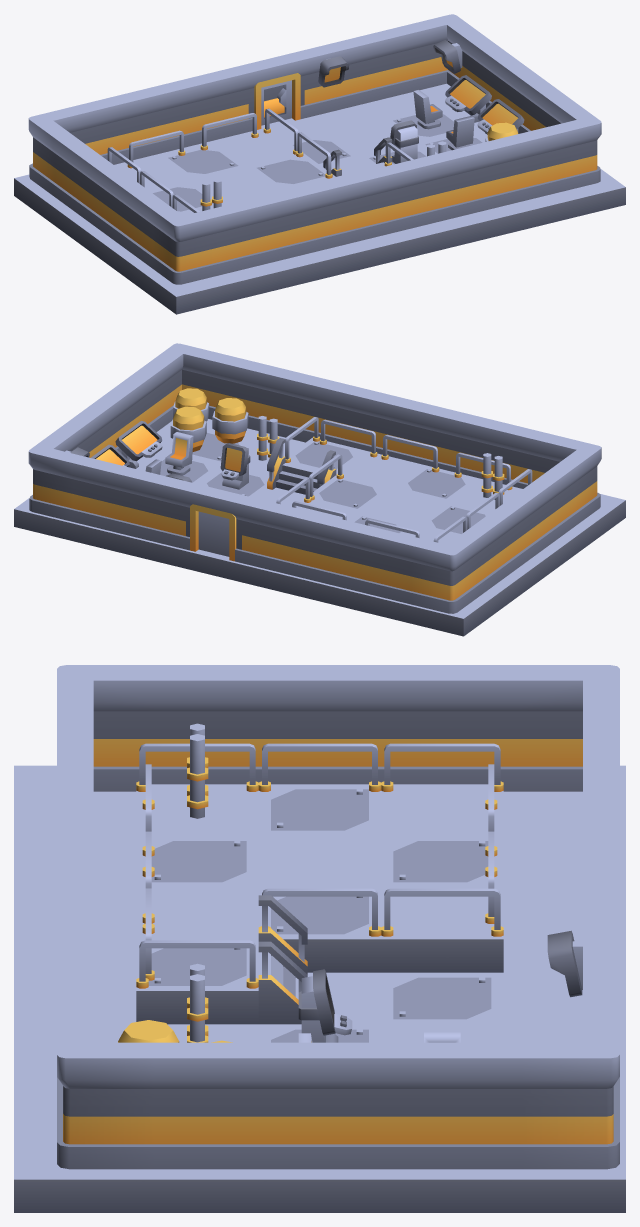
File: launchModelScene.glb
3 renders of one model, top to bottom at view 1: azimuth 30°, elevation 25°; view 2: azimuth 150°, elevation 25°; view 3: azimuth 270°, elevation 25°, orthographic. The views are drawn at different scales.
Parts seen in each view (by area): view 1: wall-banner (×17), floor (×19), wall-corner-banner (×4), floor-detail (×5), wall-door-wide, computer-wide (×2), chair-cushion (×2), rail (×3), display-wall (×2), door-double-closed, computer, stairs-small-edges-handrail (+2 smaller); view 2: wall-banner (×17), floor (×18), wall-corner-banner (×4), floor-detail (×8), container (×3), wall-door-wide, computer-wide (×2), stairs-small-edges-handrail, wall-detail (×2), rail (×3), door-double-closed, computer (+1 smaller); view 3: floor (×26), wall-banner (×17), wall-corner-banner (×4), floor-detail (×7), rail (×6), stairs-small-edges-handrail, wall-detail (×2), computer, wall-door-wide, display-wall, container.
Boxes of the visible parts, x1,y1,x2,y2 form: wall-banner (×17): (52, 24, 576, 274); floor (×19): (14, 92, 625, 314); wall-corner-banner (×4): (28, 14, 601, 284); floor-detail (×5): (150, 106, 457, 214); wall-door-wide: (241, 52, 306, 131); computer-wide (×2): (445, 75, 524, 134); chair-cushion (×2): (413, 90, 474, 150); rail (×3): (127, 113, 332, 178); display-wall (×2): (318, 40, 462, 87); door-double-closed: (261, 80, 291, 125); computer: (390, 120, 418, 163); stairs-small-edges-handrail: (323, 137, 392, 176); wall-banner (×17): (53, 353, 577, 603); floor (×18): (14, 441, 625, 636); wall-corner-banner (×4): (28, 343, 601, 613); floor-detail (×8): (142, 429, 490, 536); container (×3): (170, 388, 248, 451); wall-door-wide: (184, 483, 249, 562); computer-wide (×2): (91, 421, 162, 468); stairs-small-edges-handrail: (267, 438, 336, 494); wall-detail (×2): (257, 416, 504, 499); rail (×3): (285, 417, 439, 472); door-double-closed: (198, 511, 229, 556); computer: (220, 443, 250, 489); floor (×26): (14, 765, 625, 1212); wall-banner (×17): (57, 665, 619, 1169); wall-corner-banner (×4): (57, 665, 619, 1169); floor-detail (×7): (136, 784, 503, 1042); rail (×6): (136, 743, 503, 988); stairs-small-edges-handrail: (258, 895, 307, 1024); wall-detail (×2): (187, 723, 208, 1042); computer: (298, 969, 352, 1042); wall-door-wide: (583, 861, 619, 913); display-wall: (547, 930, 582, 997); container: (118, 1020, 179, 1042).
Bounding box in the file's own units: 8 × 1.3 × 5.
97 materials, 97 textured.
